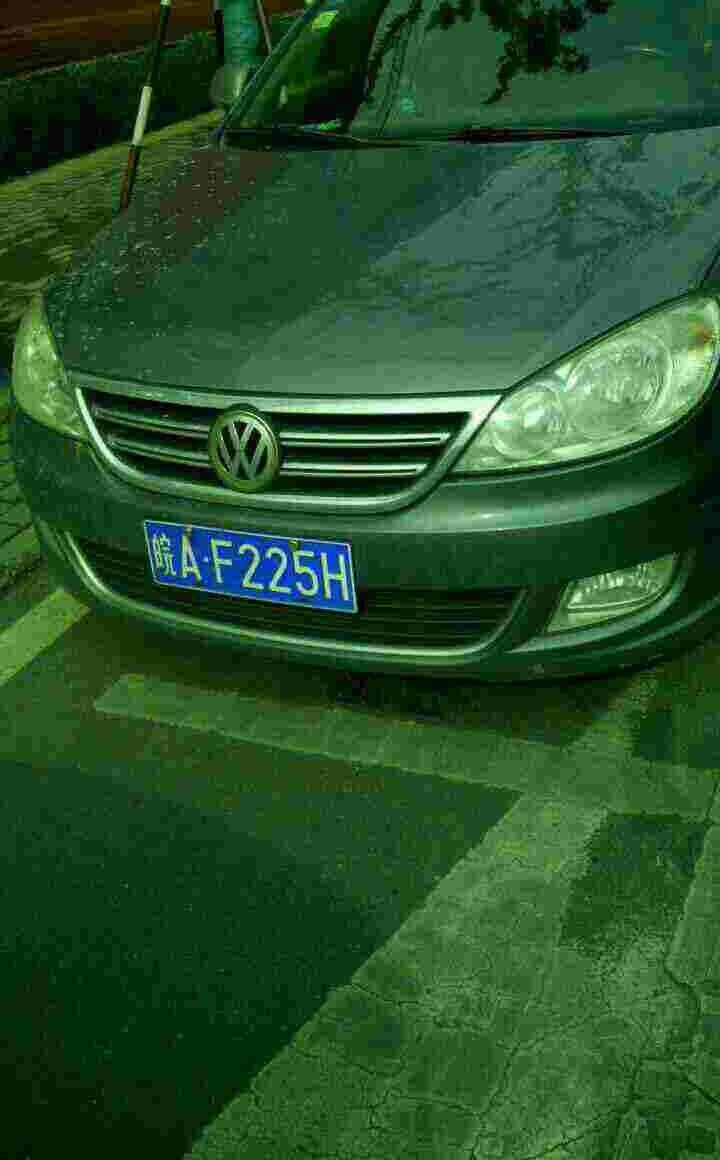plate: (138, 512, 363, 618)
